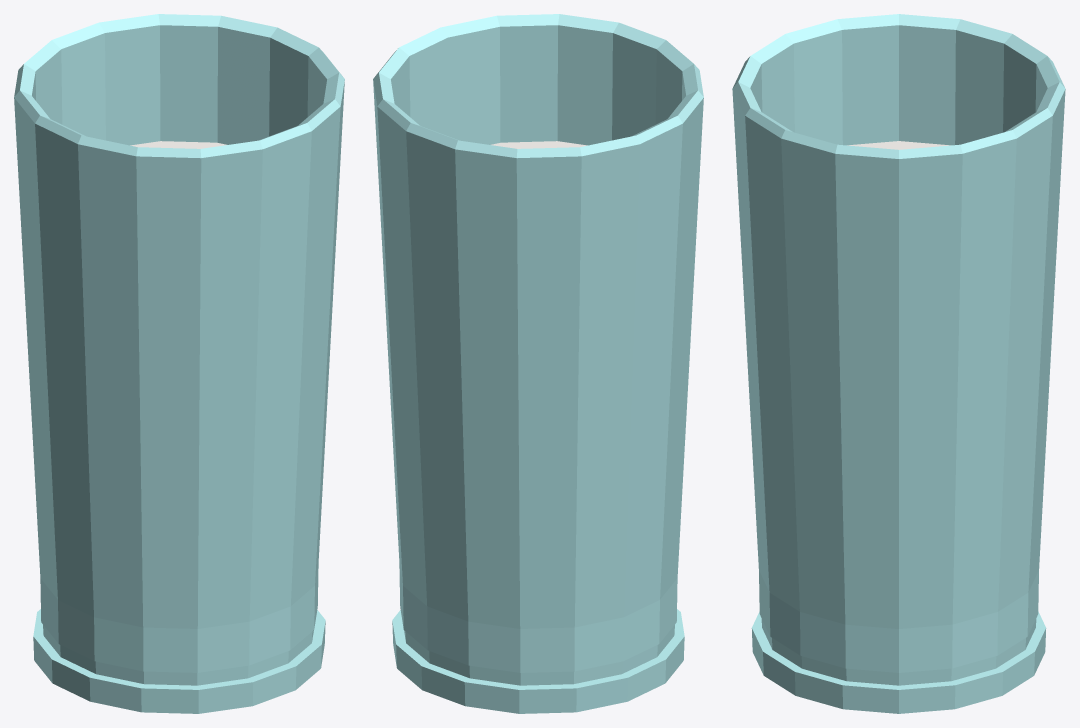
File: cupFilledWhite.fbx
3 views of the same model, side by side, from view 1: azimuth 30°, elevation 25°; view 2: azimuth 150°, elevation 25°; view 3: azimuth 270°, elevation 25° (orthographic).
Visible parts, largest first — view 1: Cup, Juice; view 2: Cup, Juice; view 3: Cup, Juice.
Boxes of the visible parts, x1=… form: Cup: x1=14, y1=14, x2=344, y2=713; Juice: x1=130, y1=141, x2=226, y2=148; Cup: x1=373, y1=14, x2=703, y2=713; Juice: x1=491, y1=141, x2=587, y2=148; Cup: x1=732, y1=14, x2=1065, y2=713; Juice: x1=847, y1=141, x2=950, y2=149.
Bounding box in the file's own units: 228 × 430 × 228.
